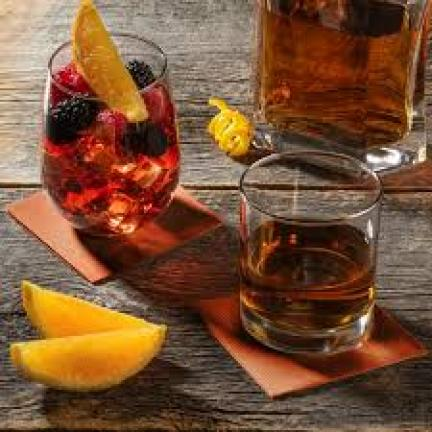container: (240, 150, 382, 355), (42, 32, 179, 234)
fluid: (240, 259, 376, 355)
fluid-surface: (243, 216, 377, 291)
